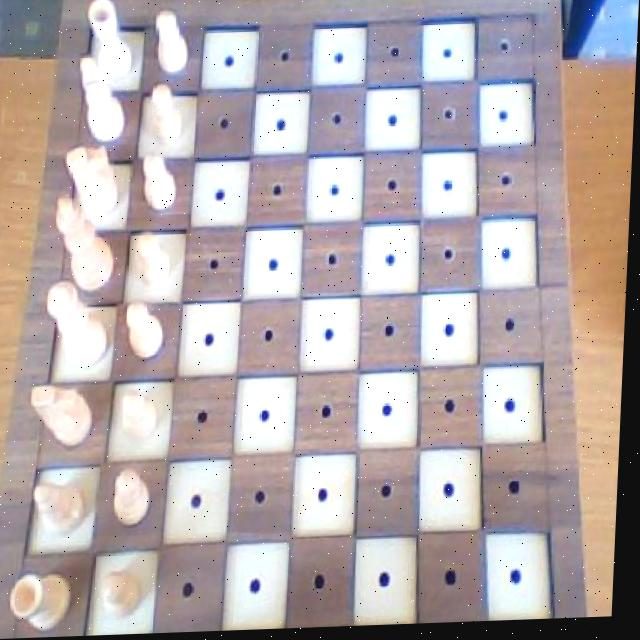black-rook: (72, 52, 133, 150), (33, 476, 94, 542)
white-bishop: (54, 192, 122, 295)
white-king: (29, 375, 104, 455), (62, 144, 126, 228)
white-knight: (148, 2, 194, 80), (102, 561, 154, 629), (144, 80, 189, 153), (115, 464, 161, 535), (138, 149, 184, 217), (124, 298, 171, 364), (121, 387, 168, 452), (134, 230, 178, 292)
white-pawn: (44, 276, 118, 375)
white-queen: (10, 563, 83, 637), (83, 0, 139, 91)
